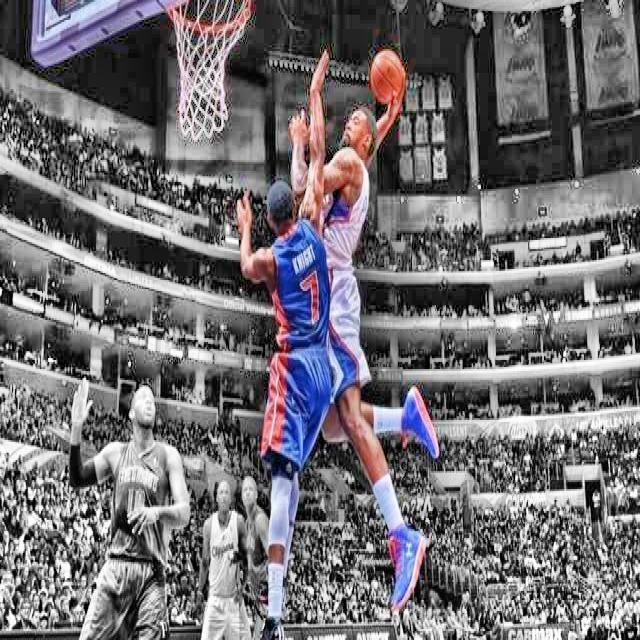board: (370, 49, 403, 106)
rim: (169, 0, 257, 136)
